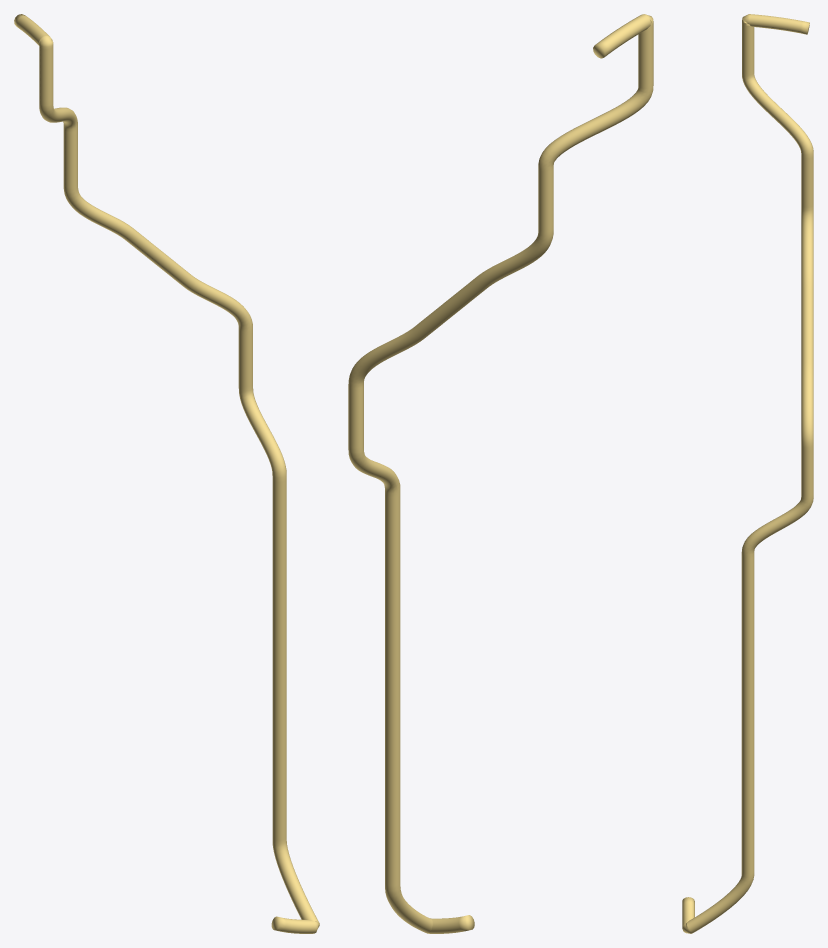
Rendered from pancreatic-head-plexus.glb.
The picture shows the model from 3 angles, left to right: view 1: azimuth 30°, elevation 25°; view 2: azimuth 150°, elevation 25°; view 3: azimuth 270°, elevation 25°; orthographic projection. The views are drawn at different scales.
Parts seen in each view (by area): view 1: VMRA_PANCREATIC_HEAD_PLEXUS_01; view 2: VMRA_PANCREATIC_HEAD_PLEXUS_01; view 3: VMRA_PANCREATIC_HEAD_PLEXUS_01.
Boxes of the visible parts, x1,y1,x2,y2 form: VMRA_PANCREATIC_HEAD_PLEXUS_01: (14, 14, 319, 933); VMRA_PANCREATIC_HEAD_PLEXUS_01: (348, 14, 653, 933); VMRA_PANCREATIC_HEAD_PLEXUS_01: (682, 14, 813, 933).
Bounding box in the file's own units: 0.00632 × 0.0228 × 0.00332.
